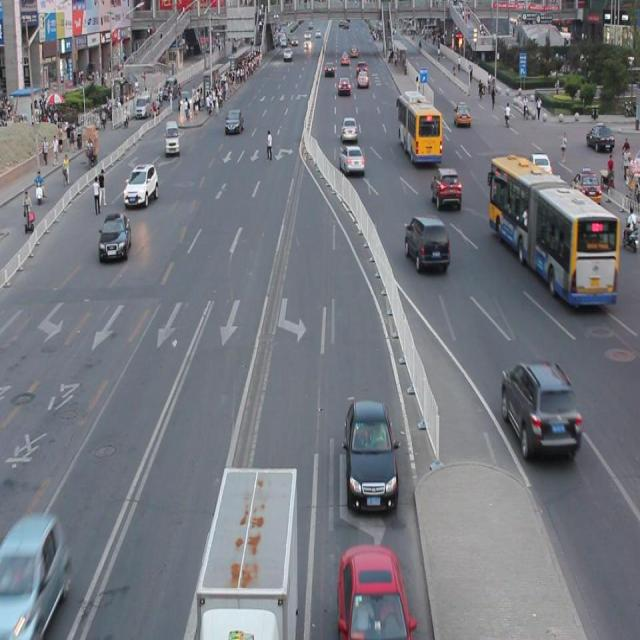bus: (196, 463, 298, 640)
car: (1, 512, 70, 640), (500, 359, 580, 462), (338, 540, 412, 640), (344, 396, 399, 514), (404, 214, 449, 272), (99, 212, 132, 262), (124, 162, 158, 208), (429, 167, 462, 212), (570, 170, 600, 205)
van: (489, 156, 616, 304)
